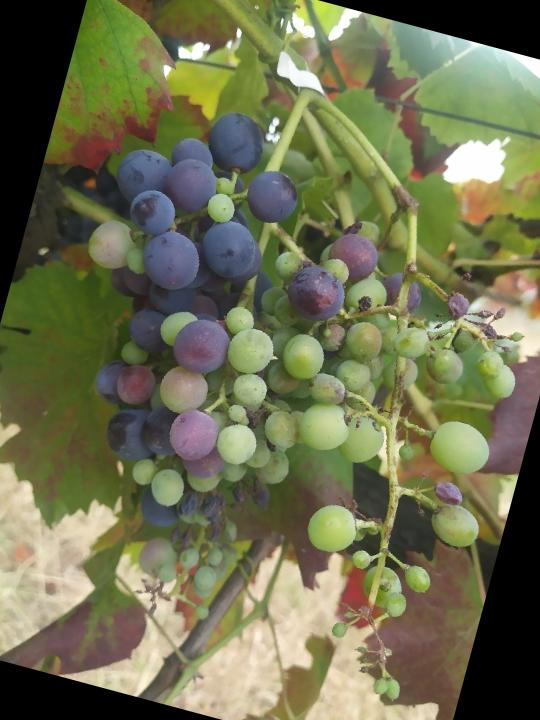grape: (1, 85, 379, 636), (216, 210, 540, 716)
